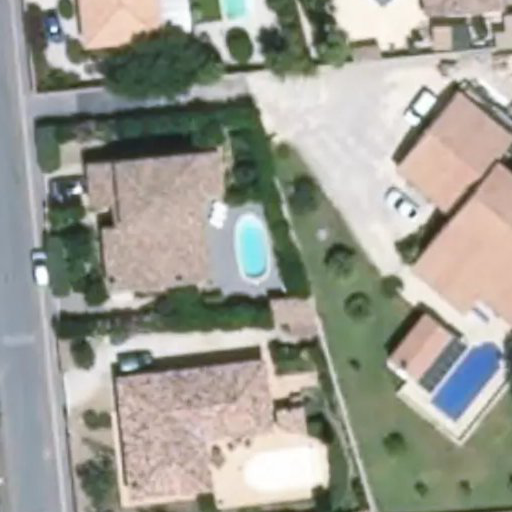pool: (236, 214, 274, 270)
